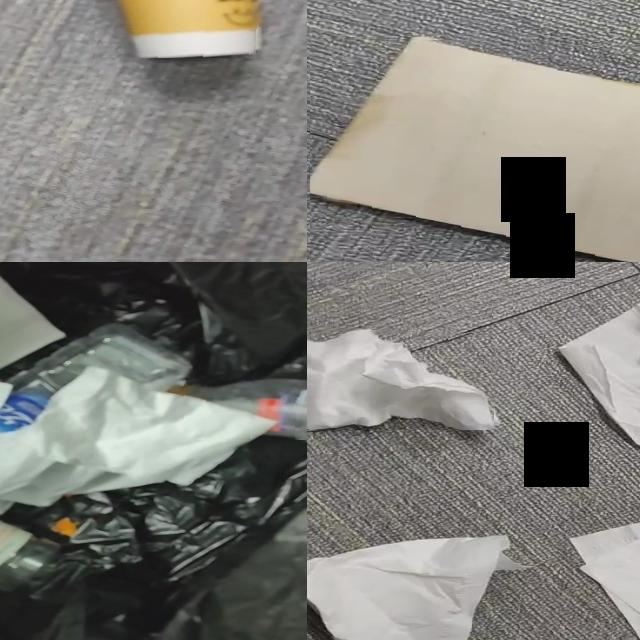bottle: (0, 324, 191, 432), (184, 382, 307, 438)
carton: (310, 40, 640, 262)
dixie_cup: (119, 0, 257, 58)
paper: (0, 367, 277, 512), (307, 536, 524, 640), (307, 331, 495, 430), (0, 277, 66, 369)
